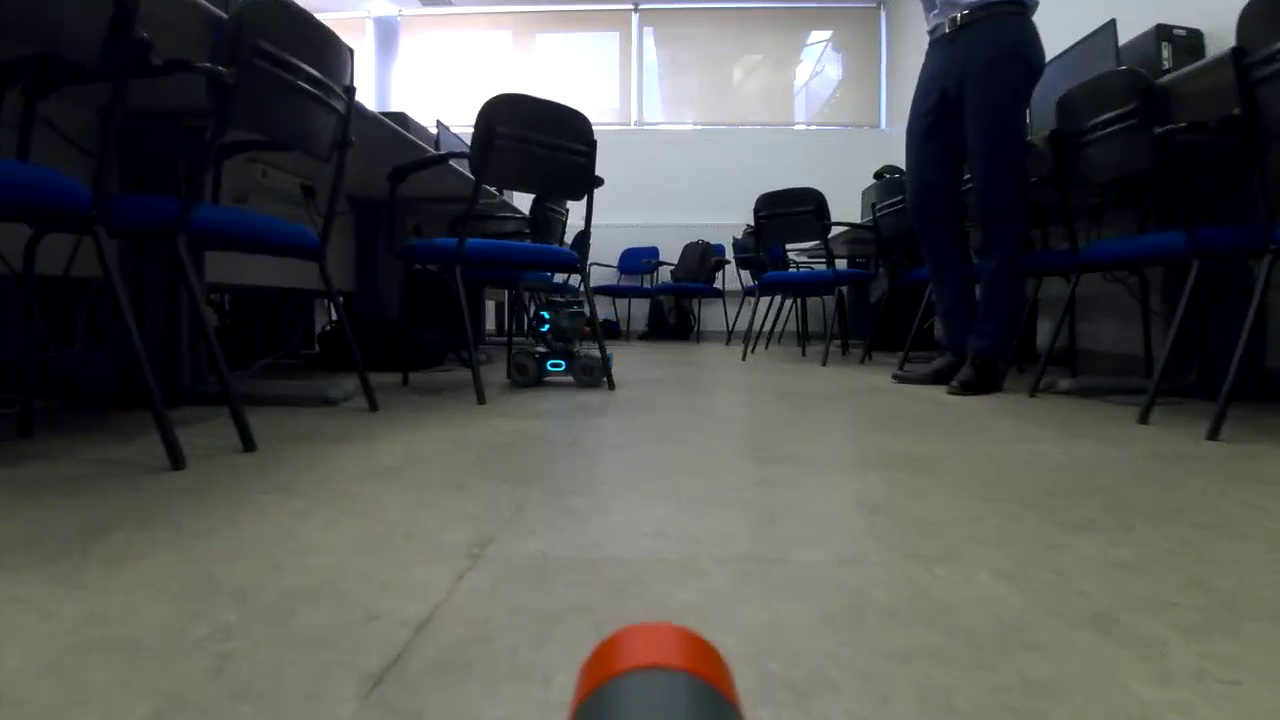robot: (506, 290, 611, 394)
